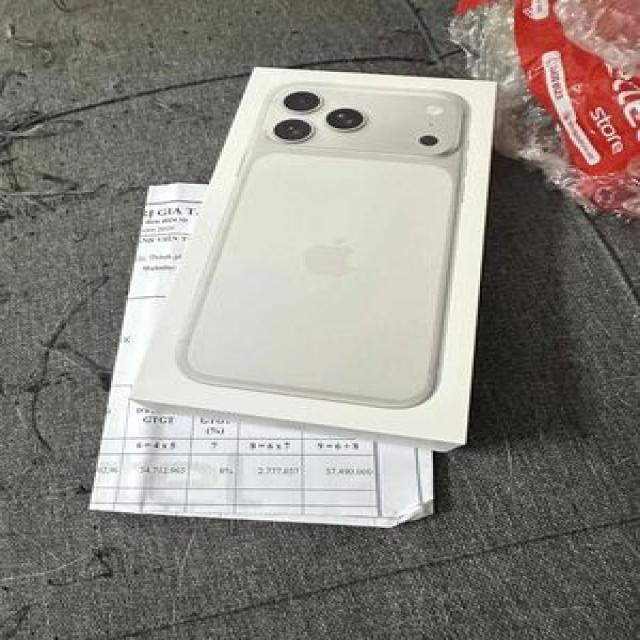gen_17: (178, 69, 471, 426)
